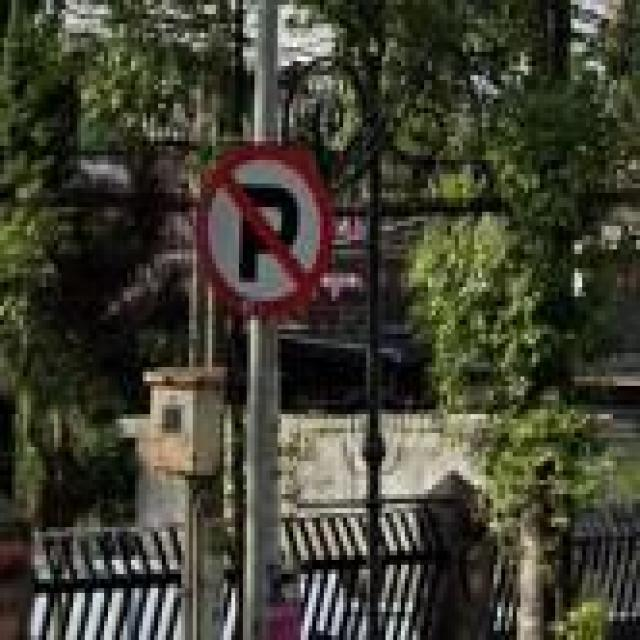traffic sign: (197, 146, 340, 316)
